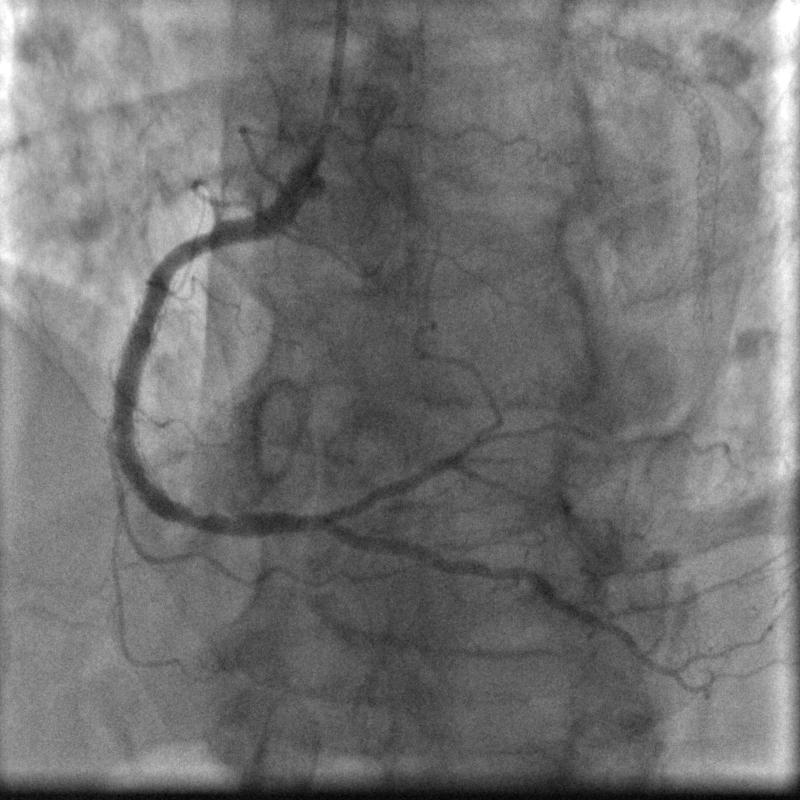Stenosis: (177, 219, 227, 271)
